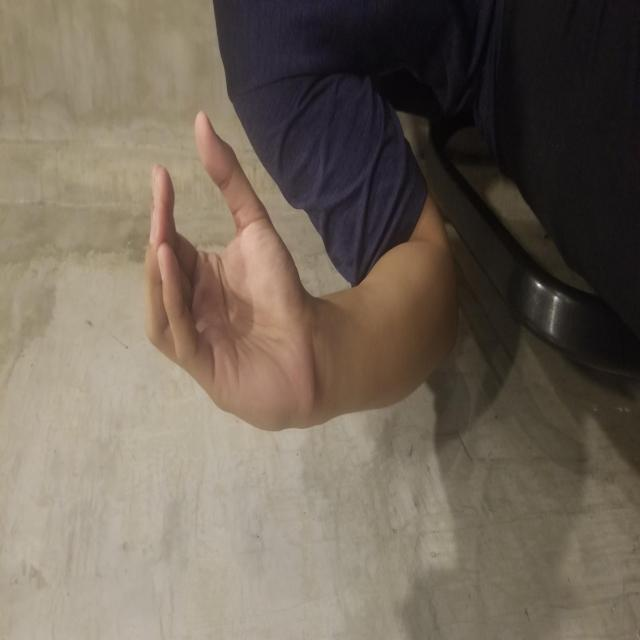C: (211, 141, 533, 315)
